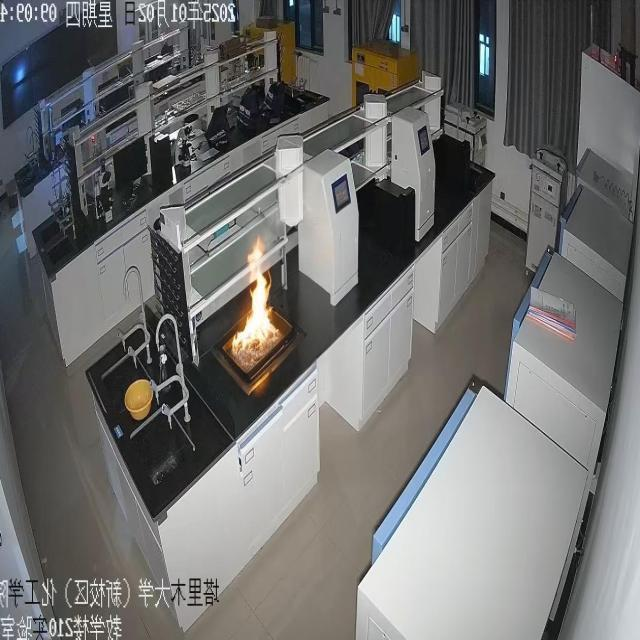smoke: (230, 241, 279, 356)
